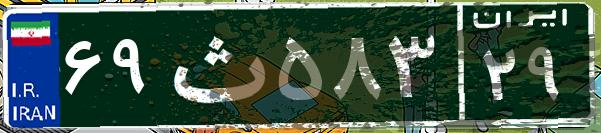2: (475, 38, 525, 113)
3: (385, 28, 445, 110)
5: (273, 28, 330, 110)
6: (57, 26, 110, 107)
8: (330, 28, 385, 110)
9: (110, 28, 158, 105), (525, 38, 570, 115)
ث: (158, 15, 273, 115)
